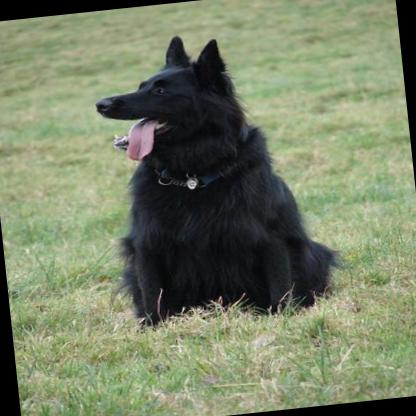groenendael: (84, 19, 346, 330)
